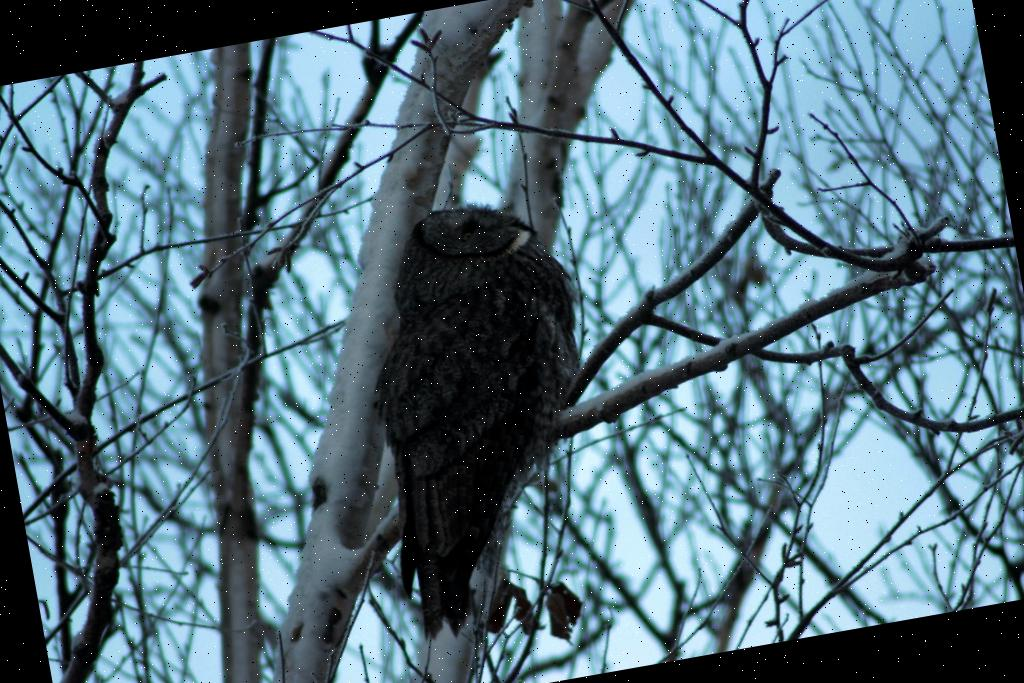Owl: (338, 186, 638, 643)
